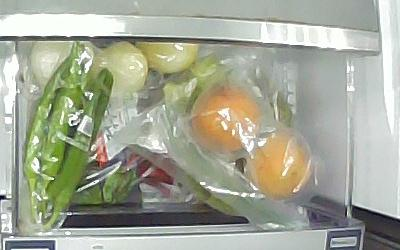peach_vinyl: (191, 83, 260, 158), (249, 132, 313, 201)
